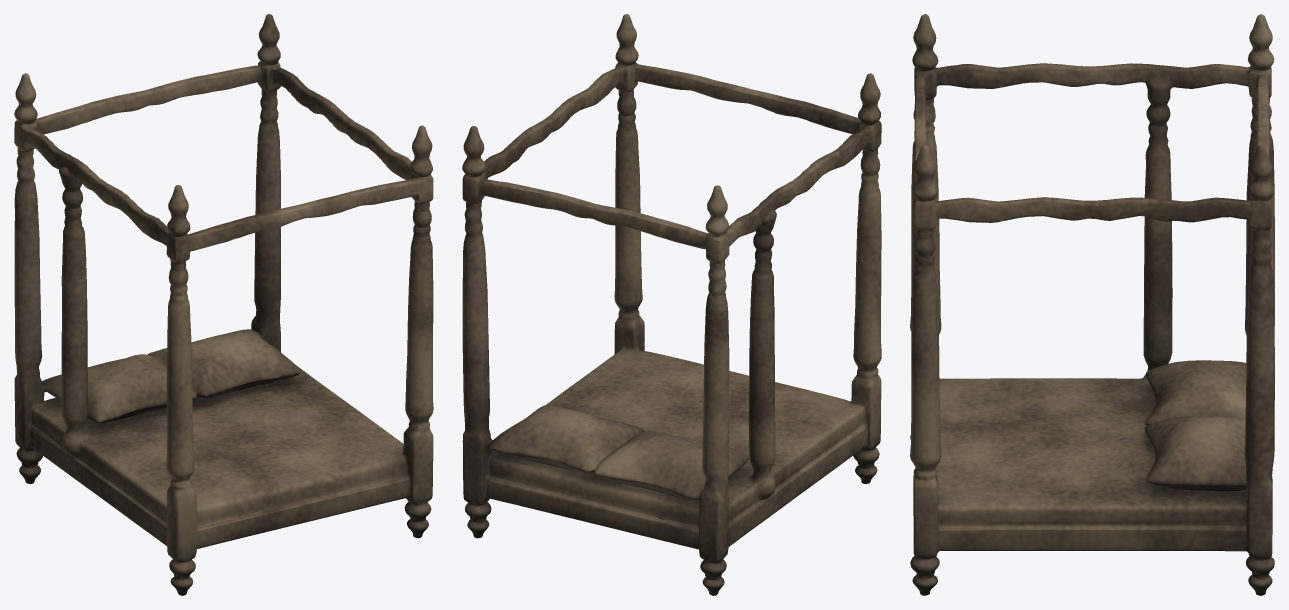
File: old-wood-four-poster-bed.glb
3 renders of one model, left to right at view 1: azimuth 30°, elevation 25°; view 2: azimuth 150°, elevation 25°; view 3: azimuth 270°, elevation 25°, orthographic. The views are drawn at different scales.
Visible parts, largest first — view 1: old-wood-four-poster-bed; view 2: old-wood-four-poster-bed; view 3: old-wood-four-poster-bed.
Part boxes in pixels (x1,y1,x2,y2): old-wood-four-poster-bed: (14, 14, 433, 595); old-wood-four-poster-bed: (462, 14, 881, 595); old-wood-four-poster-bed: (910, 14, 1274, 595).
Size of the model in its own units: 1.39 by 2.06 by 1.51.
1 material, 1 textured.
